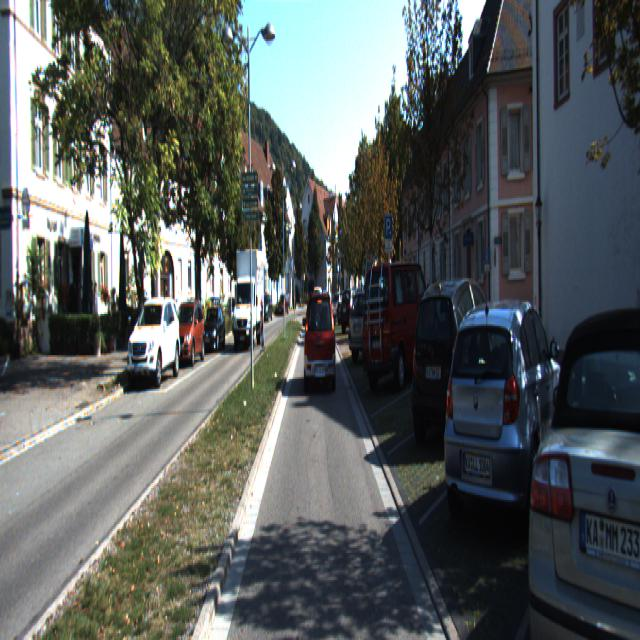Car: (521, 304, 639, 638), (438, 292, 570, 558), (409, 273, 506, 457), (361, 258, 438, 394), (128, 298, 181, 386), (349, 290, 401, 364), (231, 254, 265, 352), (305, 293, 337, 393), (169, 302, 206, 370), (134, 305, 164, 361), (338, 289, 371, 334), (199, 308, 226, 354), (237, 298, 256, 332)
